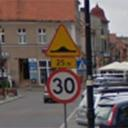speed_limit_30: (46, 68, 82, 106)
